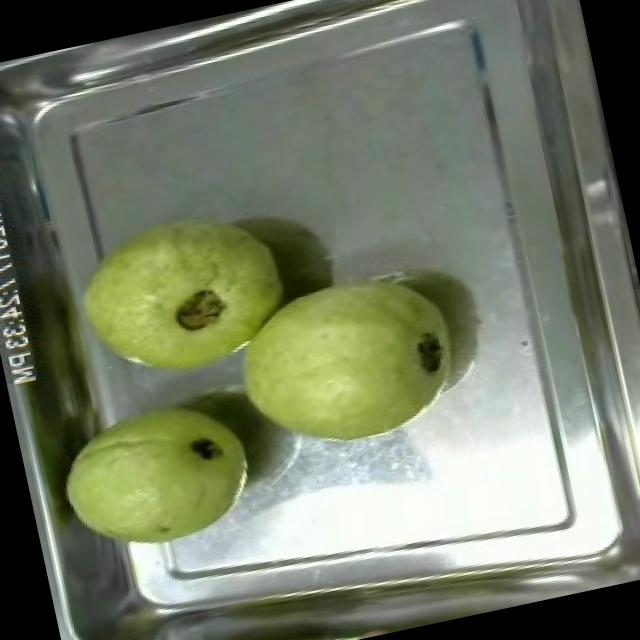Fruit: (216, 246, 481, 472), (56, 187, 308, 403), (32, 376, 274, 576)
